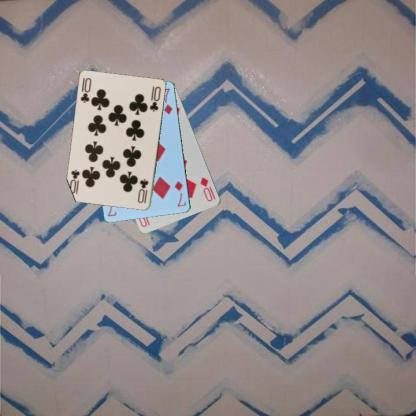10c: (135, 176, 150, 205), (78, 75, 92, 104)
10d: (198, 174, 216, 203)
7d: (172, 179, 187, 208)
